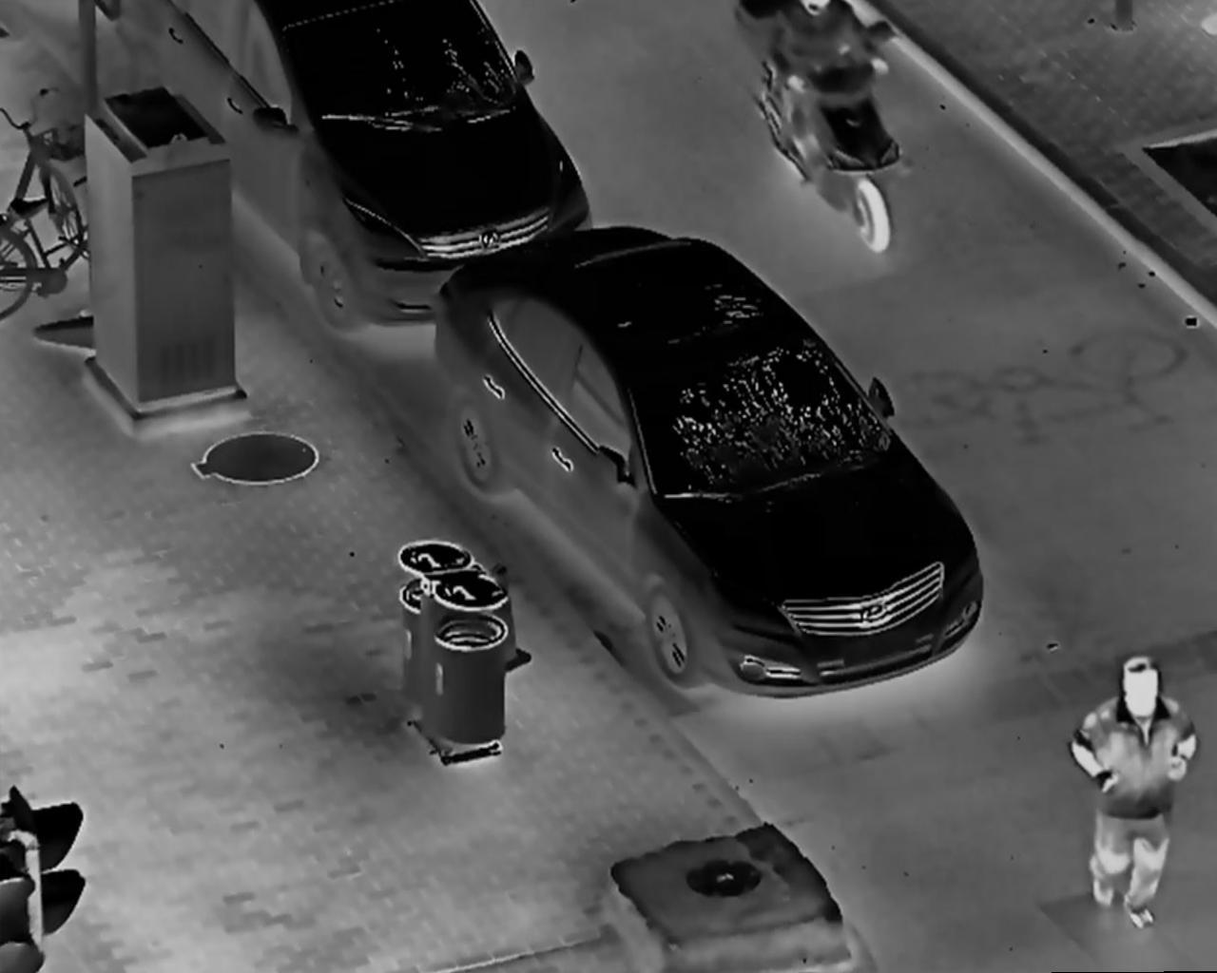person: (1068, 655, 1202, 932)
